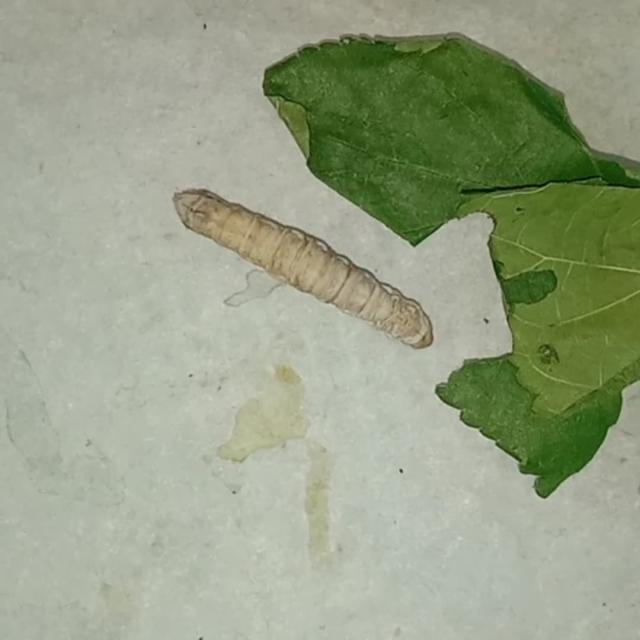Grasserie: (166, 178, 447, 358)
